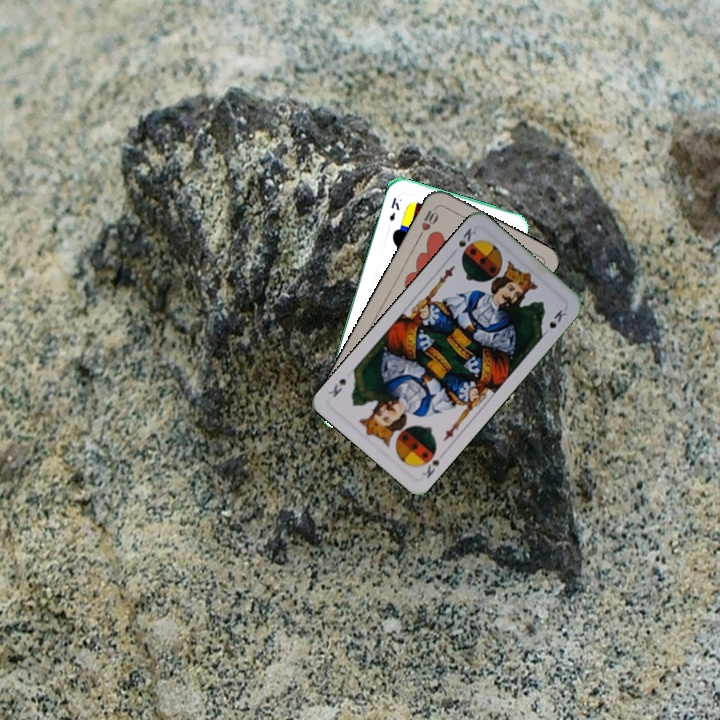EK: (385, 193, 402, 224)
H10: (415, 202, 441, 240)
SK: (418, 447, 447, 481), (454, 224, 479, 250)
